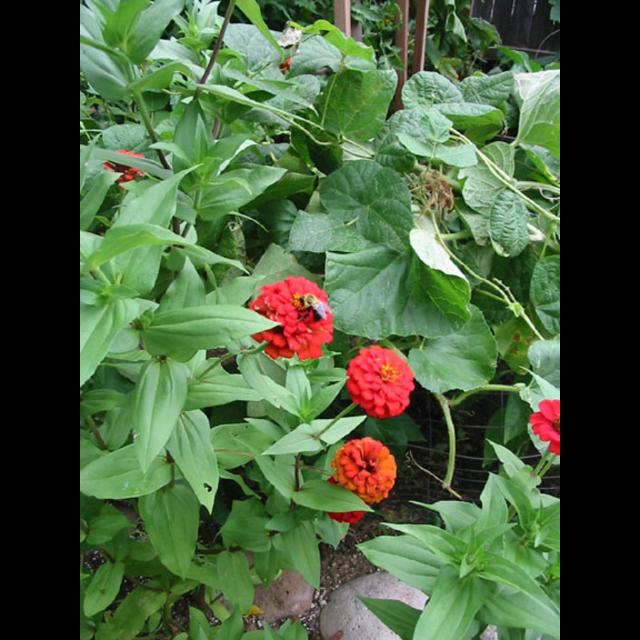Flower: (250, 274, 334, 368), (346, 340, 416, 416), (328, 435, 399, 507), (100, 143, 144, 185), (527, 399, 559, 456), (328, 505, 364, 527)
